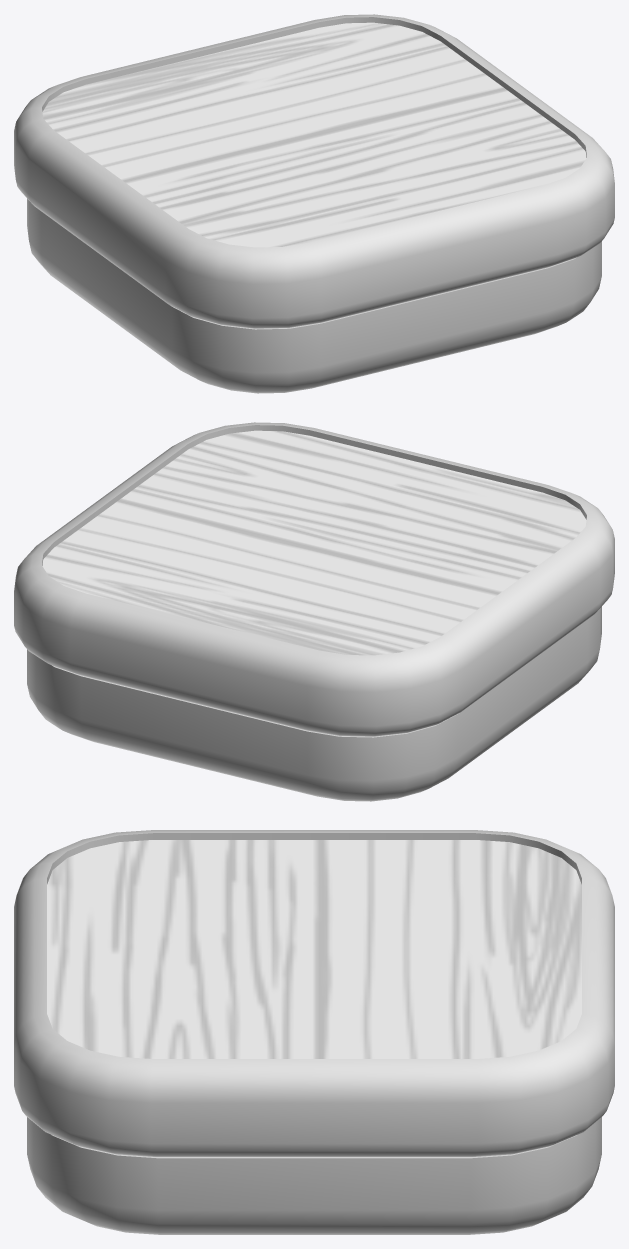
Rendered from BlockWood.fbx.
3 renders of one model, top to bottom at view 1: azimuth 30°, elevation 25°; view 2: azimuth 150°, elevation 25°; view 3: azimuth 270°, elevation 25°, orthographic. The views are drawn at different scales.
Parts seen in each view (by area): view 1: Cube; view 2: Cube; view 3: Cube.
Part boxes in pixels (bbox=[...]): Cube: bbox=[14, 14, 614, 393]; Cube: bbox=[14, 422, 614, 801]; Cube: bbox=[14, 830, 614, 1234].
Bounding box in the file's own units: 6 × 2 × 6.
